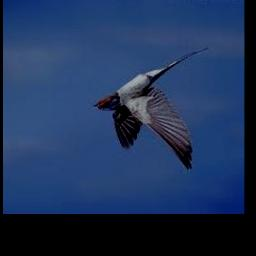Swallow: (94, 48, 209, 170)
